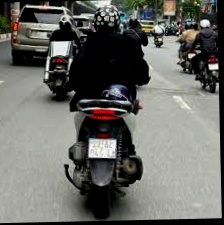Bien-so: (88, 138, 118, 160), (41, 31, 51, 40), (213, 69, 222, 77), (192, 58, 200, 64)
